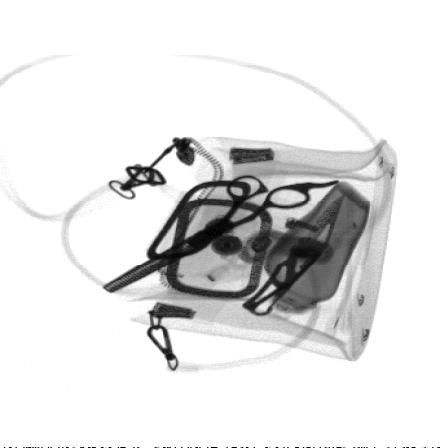Knife: (241, 190, 347, 317)
Scissors: (103, 173, 340, 293)
